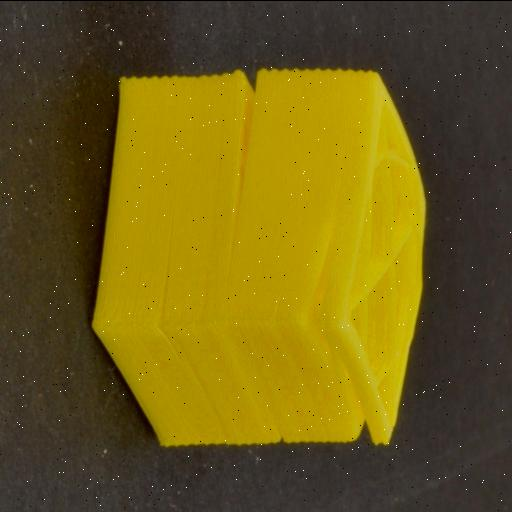cracks: (213, 58, 275, 256), (284, 226, 342, 390), (144, 220, 178, 382)
